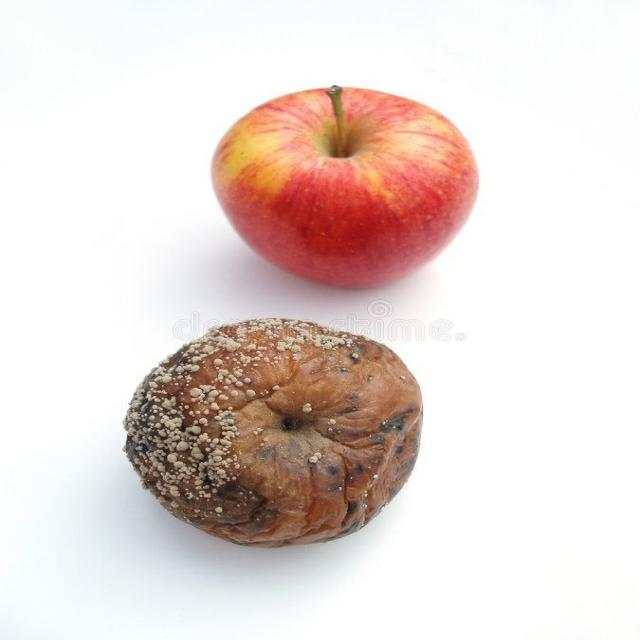fresh_apple: (211, 87, 480, 287)
rotten_apple: (125, 316, 421, 546)
